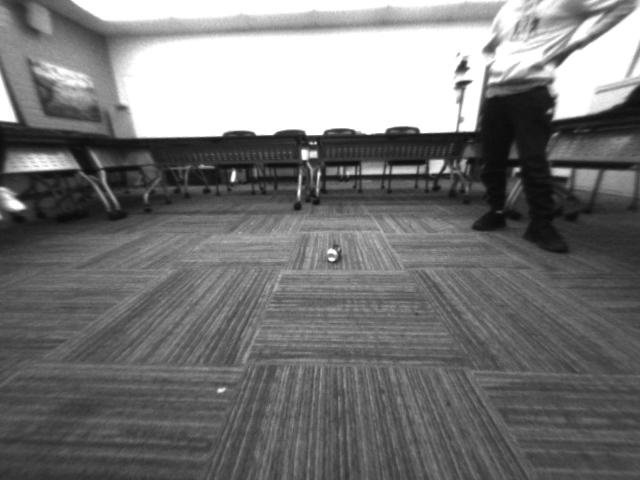can: (321, 240, 351, 268)
